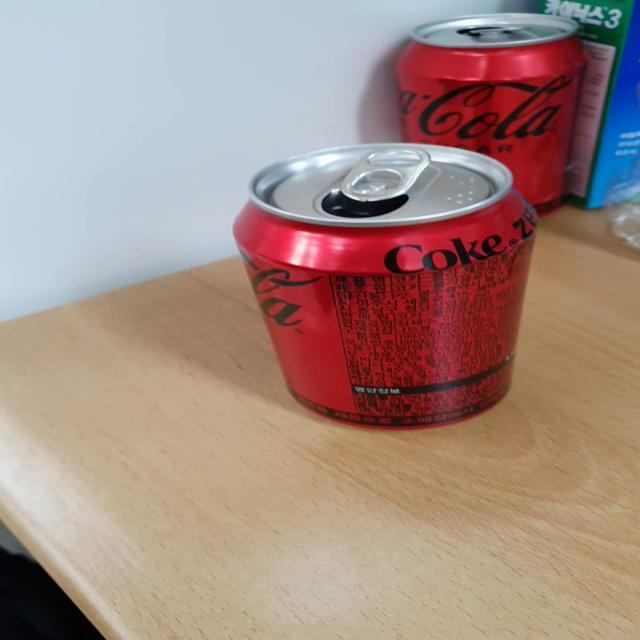coca-cola: (215, 136, 558, 440), (388, 8, 614, 224)
